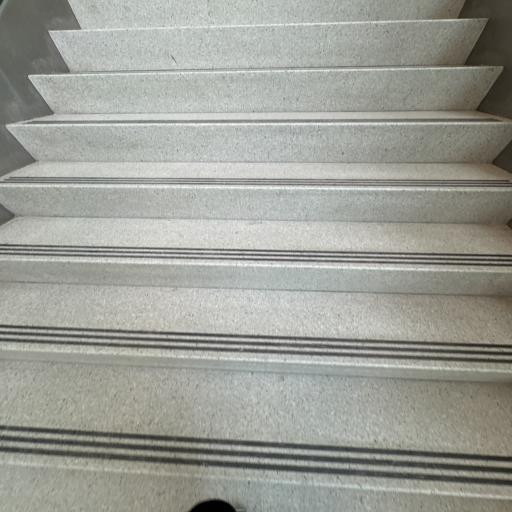Stairs: (0, 0, 512, 512), (0, 161, 512, 225)
